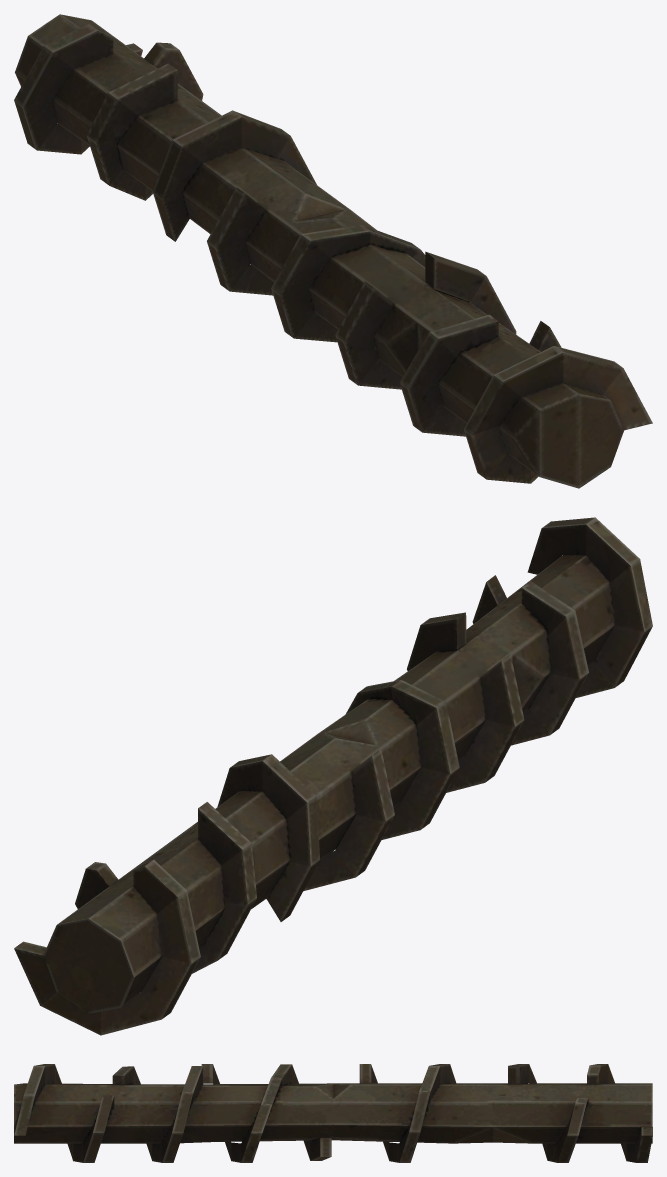
Rendered from SlagThreadedRod_Polished.glb.
3 views of the same model, one above another, from view 1: azimuth 30°, elevation 25°; view 2: azimuth 150°, elevation 25°; view 3: azimuth 270°, elevation 25° (orthographic). The views are drawn at different scales.
Visible parts, largest first — view 1: SlagThreadedRod_Polished; view 2: SlagThreadedRod_Polished; view 3: SlagThreadedRod_Polished.
Boxes of the visible parts, x1,y1,x2,y2 form: SlagThreadedRod_Polished: (14, 14, 652, 488); SlagThreadedRod_Polished: (14, 517, 652, 1035); SlagThreadedRod_Polished: (14, 1064, 652, 1162).
Bounding box in the file's own units: 0.133 × 0.133 × 0.8084.
1 material, 1 textured.
